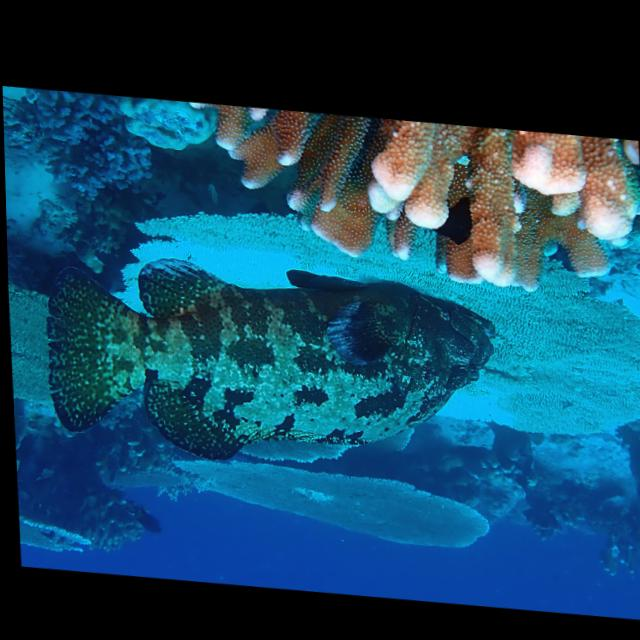Groupers: (44, 238, 503, 492)
